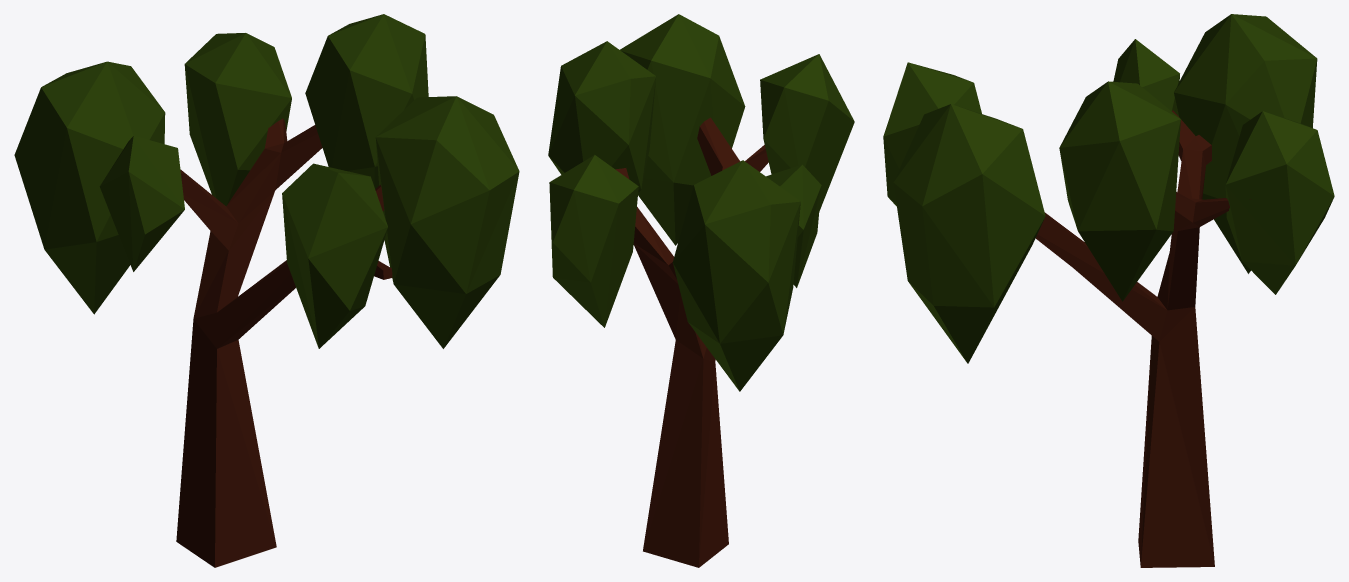
Rendered from Willow1.fbx.glb.
The picture shows the model from 3 angles, left to right: view 1: azimuth 30°, elevation 25°; view 2: azimuth 150°, elevation 25°; view 3: azimuth 270°, elevation 25°; orthographic projection. The views are drawn at different scales.
Visible parts, largest first — view 1: Willow1; view 2: Willow1; view 3: Willow1.
Boxes of the visible parts, x1=… form: Willow1: x1=14, y1=14, x2=519, y2=567; Willow1: x1=548, y1=14, x2=854, y2=567; Willow1: x1=883, y1=14, x2=1334, y2=567.
Size of the model in its own units: 168 by 260 by 198.
